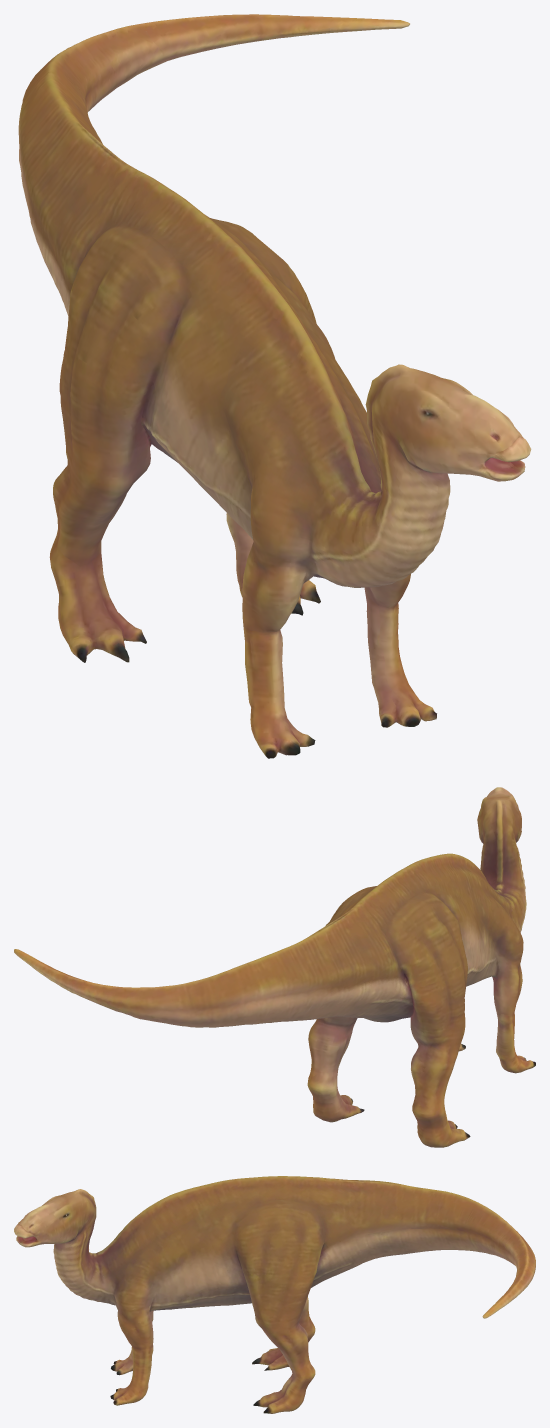
The model's file is MZ4250 - Hadrosaurus.glb.
The picture shows the model from 3 angles, top to bottom: view 1: azimuth 30°, elevation 25°; view 2: azimuth 150°, elevation 25°; view 3: azimuth 270°, elevation 25°; orthographic projection. The views are drawn at different scales.
Parts seen in each view (by area): view 1: Hadrosaurus_low.001; view 2: Hadrosaurus_low.001; view 3: Hadrosaurus_low.001.
Boxes of the visible parts, x1,y1,x2,y2 form: Hadrosaurus_low.001: [18, 14, 531, 758]; Hadrosaurus_low.001: [14, 787, 535, 1147]; Hadrosaurus_low.001: [14, 1176, 535, 1413].
Bounding box in the file's own units: 5.96 × 4.35 × 9.81.
Materials: 1 (1 with a texture image).
